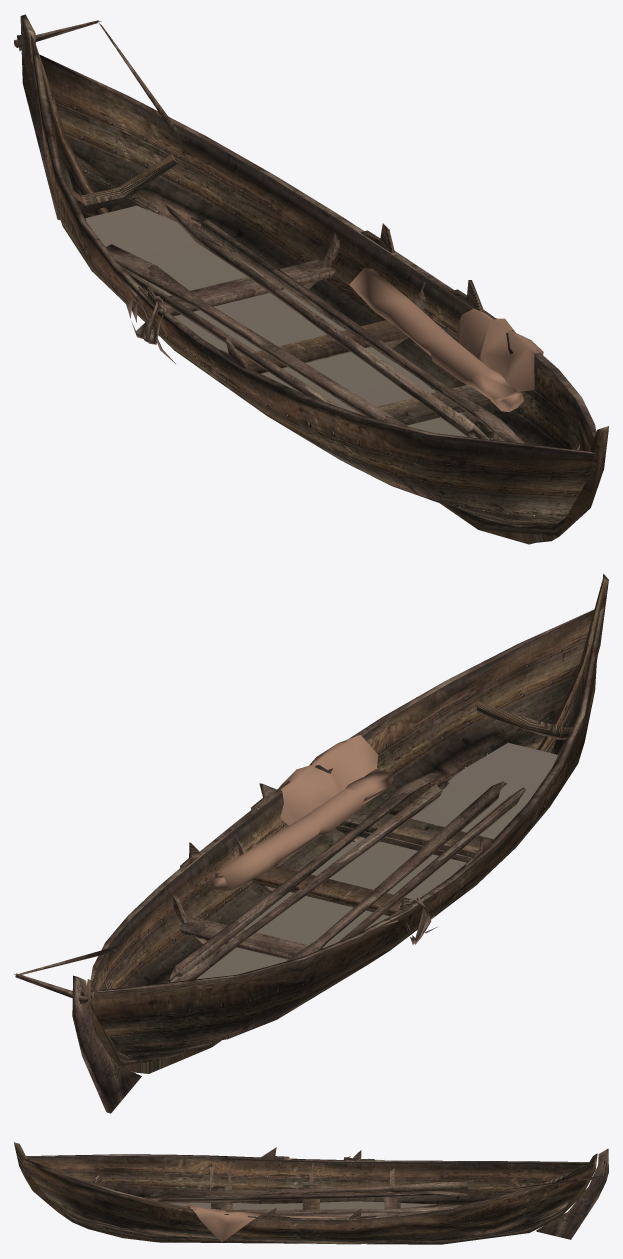
File: oselvar-boat.lod0.glb
The picture shows the model from 3 angles, top to bottom: view 1: azimuth 30°, elevation 25°; view 2: azimuth 150°, elevation 25°; view 3: azimuth 270°, elevation 25°; orthographic projection. The views are drawn at different scales.
Visible parts, largest first — view 1: Oselvar1_HullMAT_0, Oselvar1_Iron_0; view 2: Oselvar1_HullMAT_0, Oselvar1_Iron_0; view 3: Oselvar1_HullMAT_0, Oselvar1_Iron_0.
Boxes of the visible parts, bbox=[...] form: Oselvar1_HullMAT_0: bbox=[14, 14, 608, 544]; Oselvar1_Iron_0: bbox=[28, 21, 543, 439]; Oselvar1_HullMAT_0: bbox=[15, 574, 608, 1113]; Oselvar1_Iron_0: bbox=[14, 735, 557, 1078]; Oselvar1_HullMAT_0: bbox=[14, 1142, 608, 1244]; Oselvar1_Iron_0: bbox=[171, 1156, 599, 1242].
Size of the model in its own units: 1.55 by 1.14 by 5.99.
2 materials, 1 textured.
